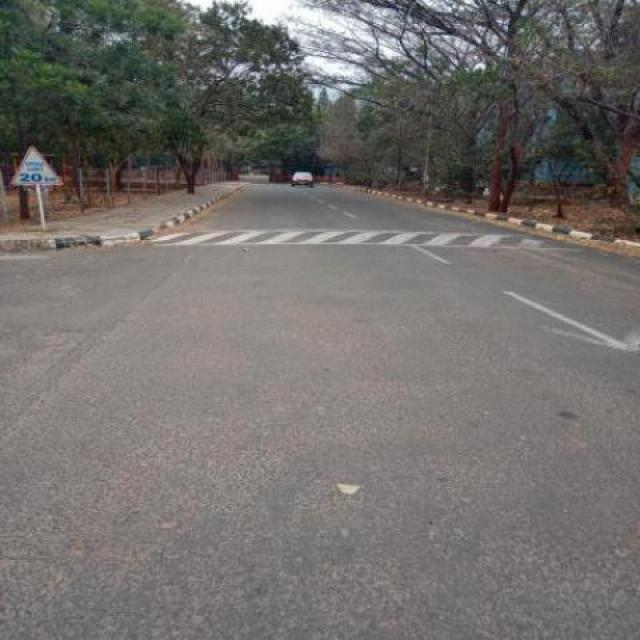Speed Bump: (134, 228, 584, 249)
